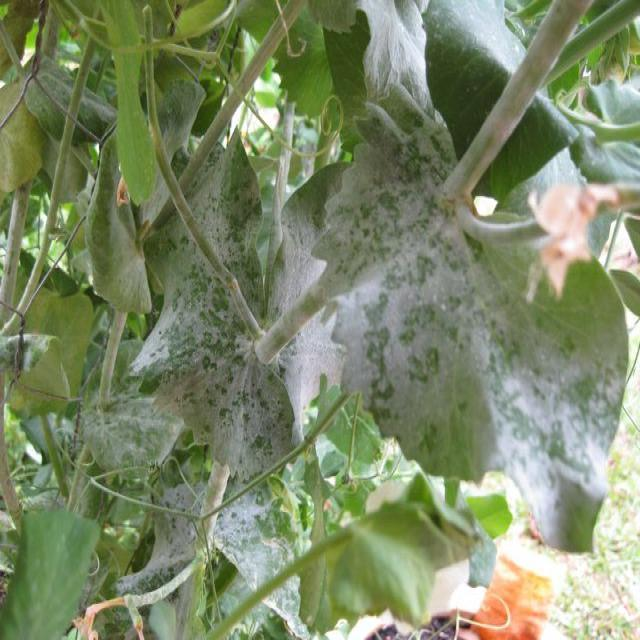Leaf_Mold: (51, 31, 640, 616)
